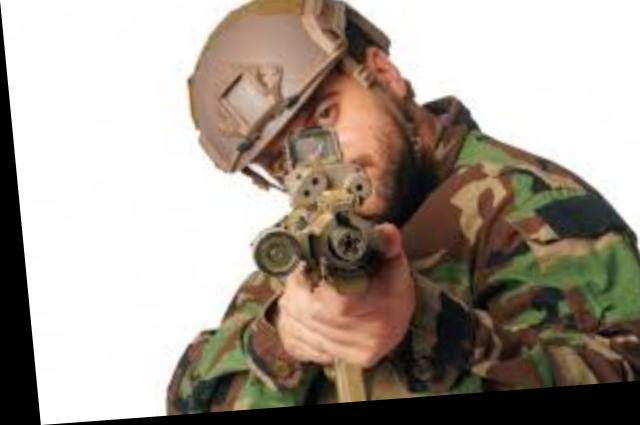other: (126, 0, 640, 417)
